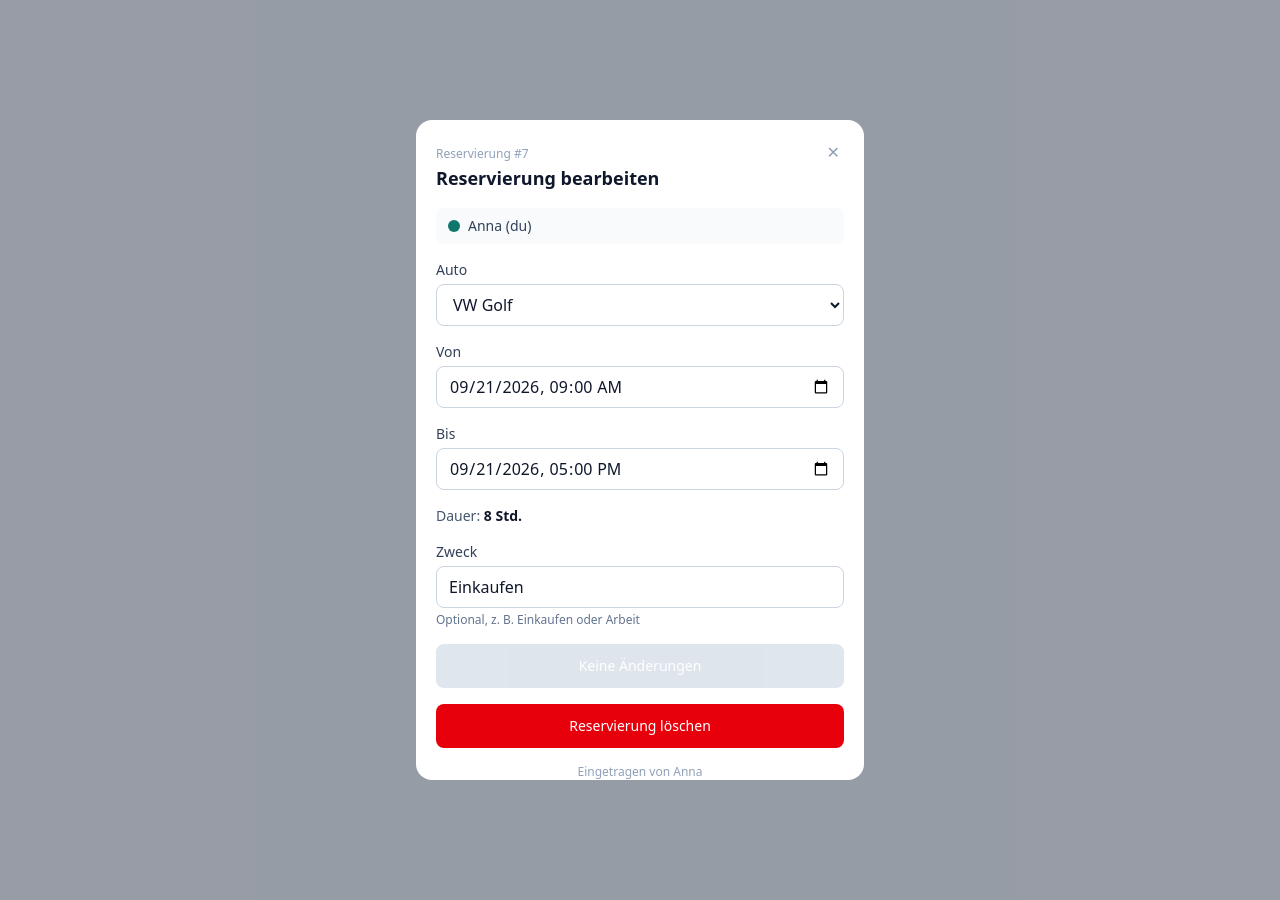
Test: editing your own reservation › shows the reason when the slot is already taken
Replace the text in the field labelled "Bis" with "2026-09-21T19:00" at (640, 469), box [436,448,844,490]
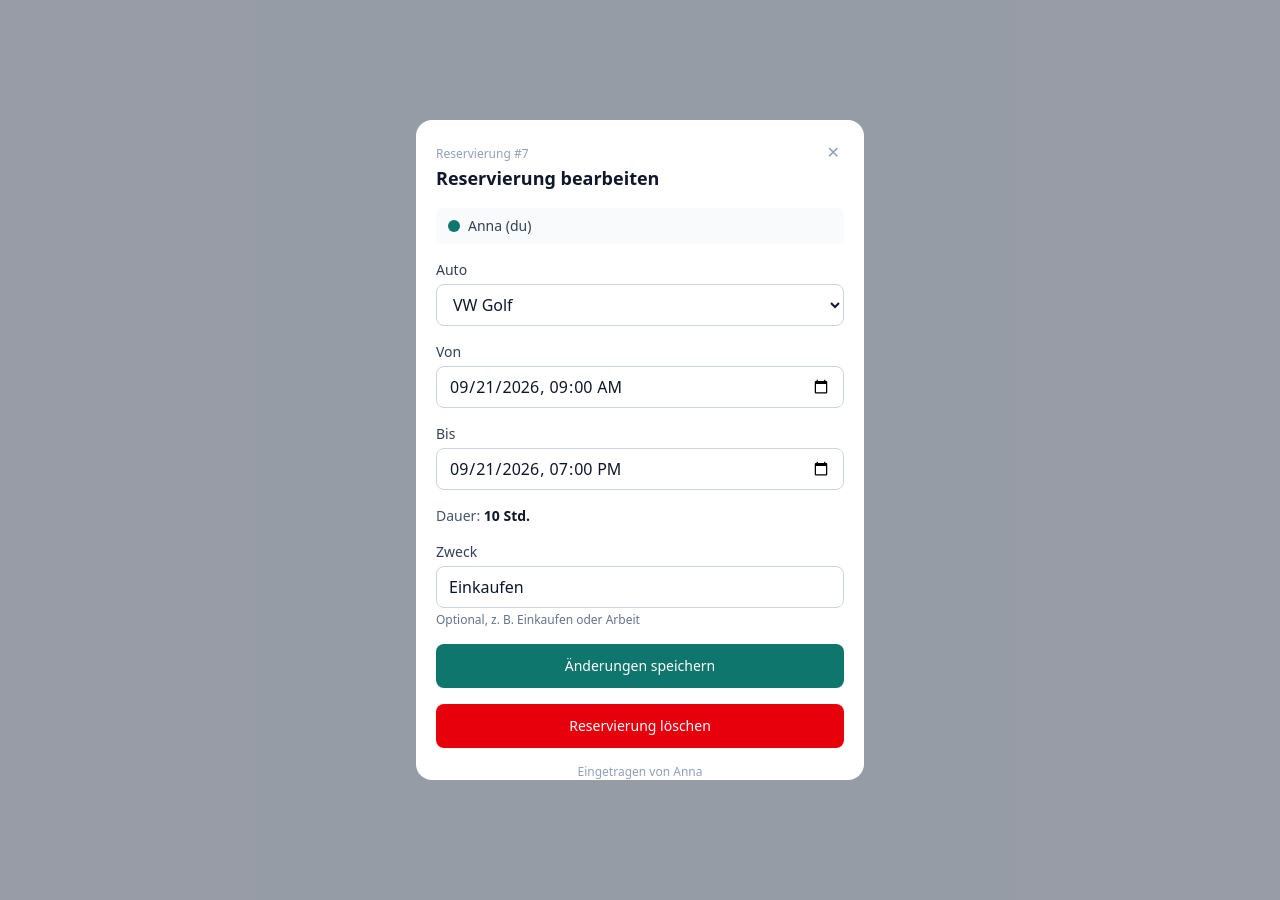
Click the button "Änderungen speichern" at (640, 666), box [436,644,844,688]
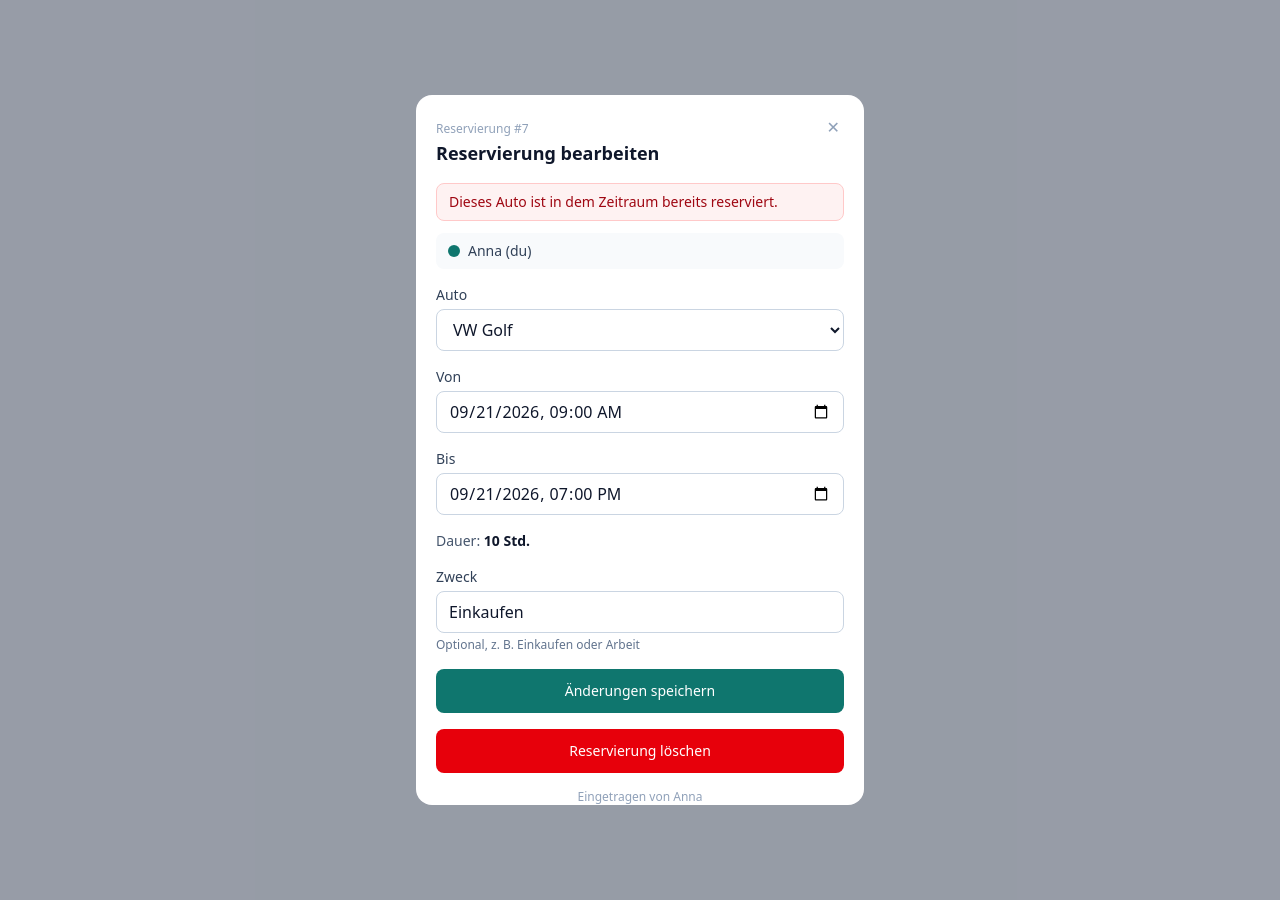
expect the text "Dieses Auto ist in dem Zeitraum bereits reserviert." is shown: met, box [436,183,844,221]
